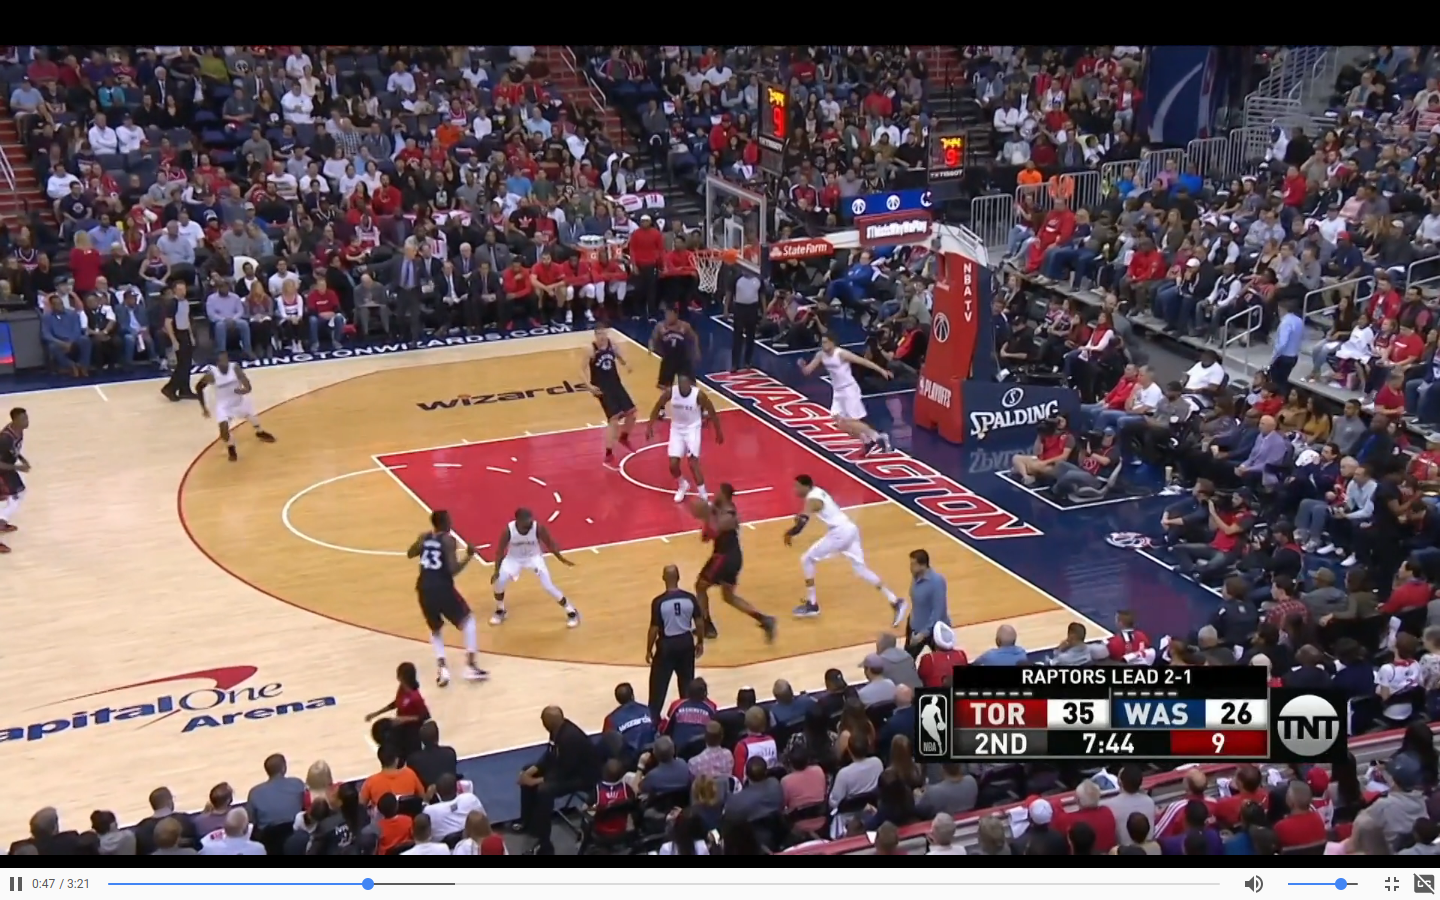basketball: (688, 494, 718, 523)
basketball player: (776, 476, 899, 617), (410, 503, 490, 683), (473, 506, 585, 636), (695, 477, 770, 646), (798, 337, 899, 459), (193, 352, 278, 466), (575, 322, 641, 469), (648, 382, 721, 489), (1, 403, 44, 559), (650, 308, 707, 389)
referee: (639, 565, 707, 706), (727, 263, 772, 374), (164, 279, 195, 408)
